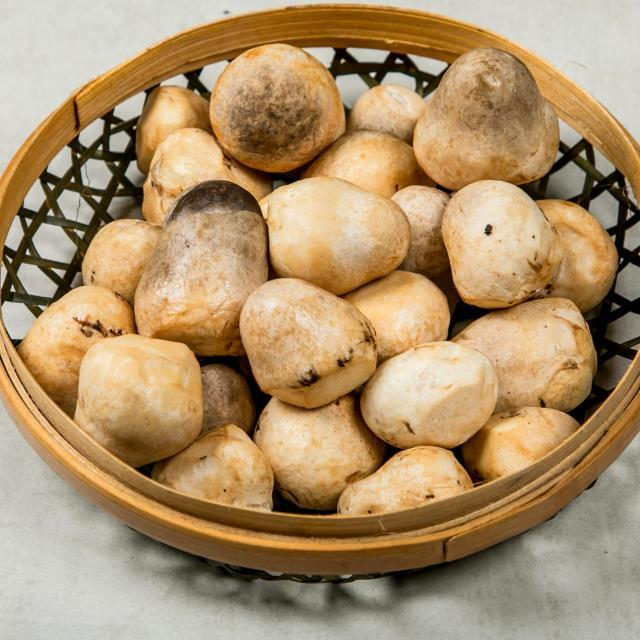Mushroom: (146, 93, 550, 462), (140, 182, 269, 352), (414, 52, 560, 184), (242, 277, 382, 408), (213, 41, 346, 173), (274, 178, 411, 283), (446, 180, 558, 302)
